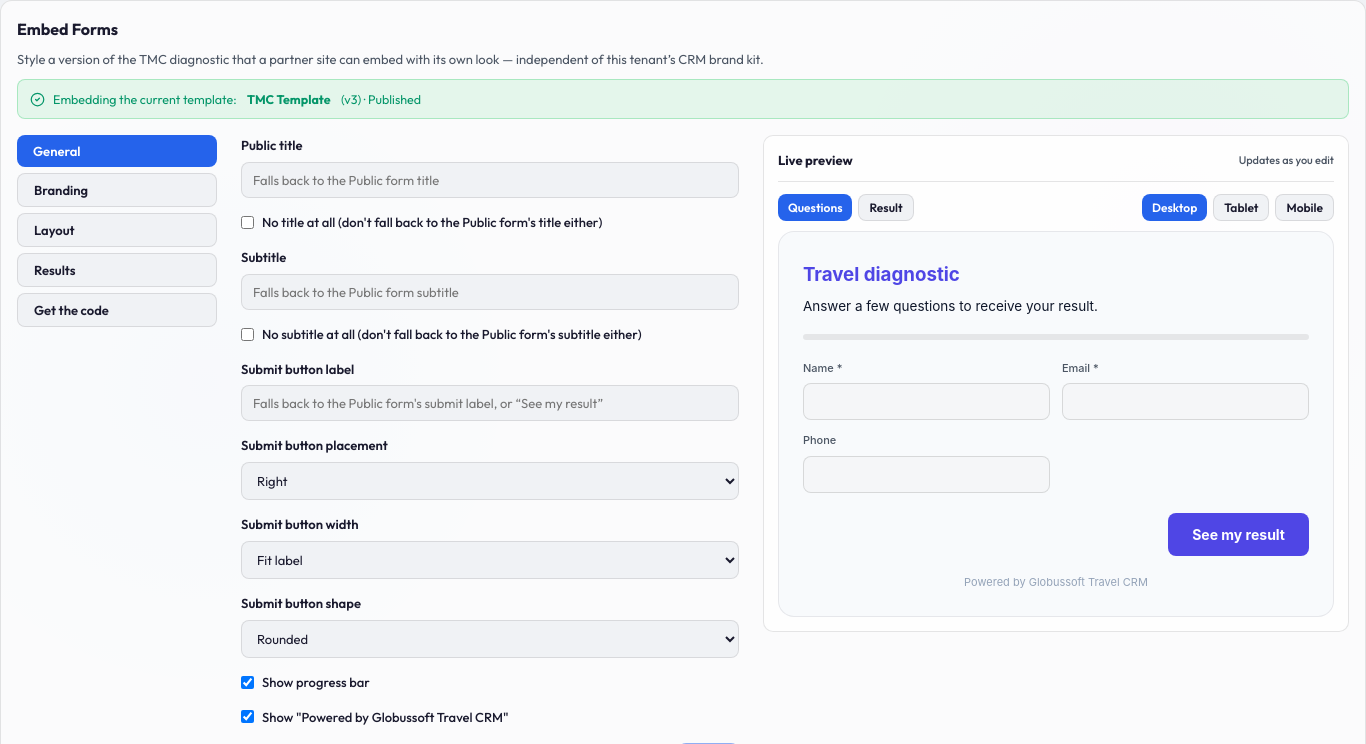
DiagnosticEmbedFormsPanel — title/subtitle/powered-by (2026-09-08 fixes) › "No title at all" hides the title even though the text field is empty (falls back otherwise)
The width and height of the screenshot is (1366, 744).
Expected: the text "TMC Template" is shown, [244,89,333,109]
Expected: the heading "Travel diagnostic" is shown, [803,263,960,286]
Click the checkbox labelled "No title at all": click(248, 223) [241,216,254,229]
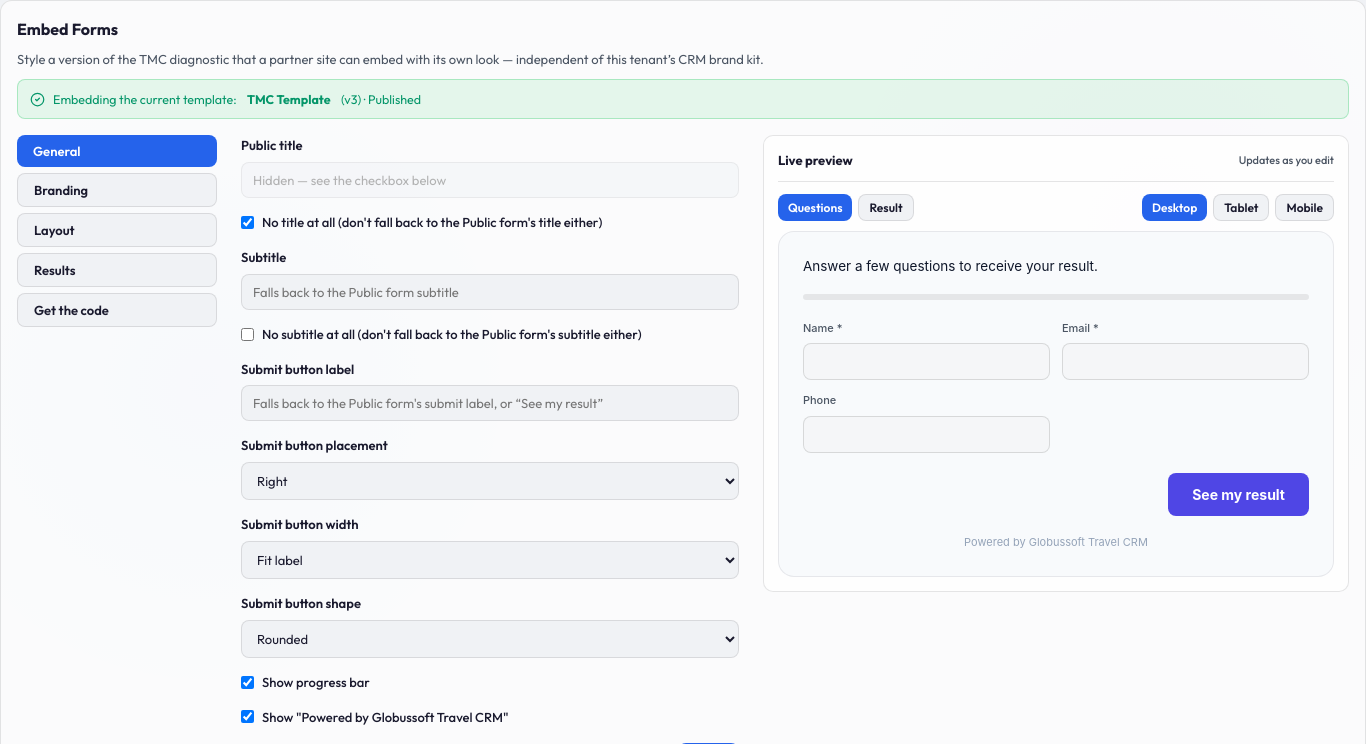
Now the heading "Travel diagnostic" is gone
